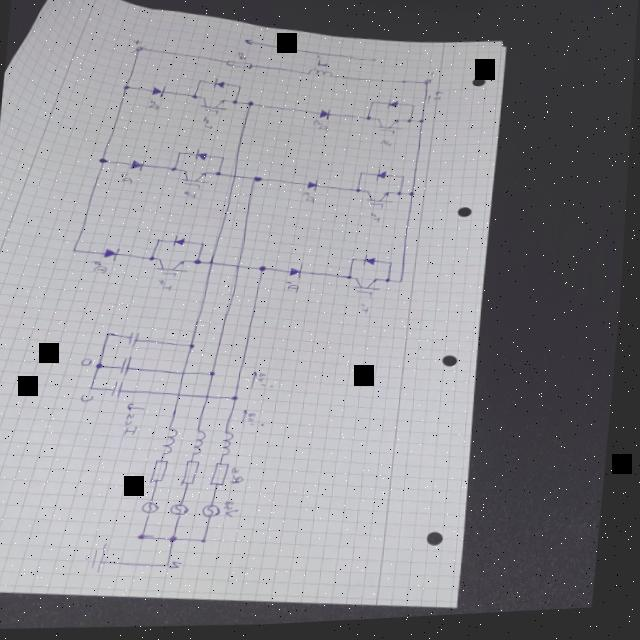capacitor: (123, 357, 137, 377), (115, 381, 129, 400), (130, 332, 144, 347)
crossover: (185, 372, 191, 377), (235, 175, 241, 180), (181, 394, 187, 398), (211, 395, 215, 400), (240, 266, 244, 270), (214, 263, 218, 267)
diode: (290, 264, 309, 282), (107, 246, 123, 262), (151, 85, 168, 100), (375, 171, 392, 186), (131, 159, 148, 173), (175, 235, 190, 249), (214, 79, 228, 93), (307, 181, 321, 195), (387, 100, 402, 113), (197, 151, 211, 163), (319, 111, 333, 123), (366, 259, 379, 269)
ground: (89, 542, 116, 577)
inductor: (167, 428, 184, 457), (196, 430, 213, 456), (225, 432, 241, 459), (308, 70, 335, 80)
junction: (144, 535, 153, 542), (262, 267, 270, 274), (366, 118, 374, 125), (101, 158, 110, 164), (74, 247, 81, 254), (176, 537, 184, 543), (410, 195, 418, 201), (100, 363, 107, 369), (421, 121, 427, 128), (206, 539, 213, 545), (217, 172, 224, 178), (351, 277, 357, 283), (159, 239, 166, 244), (213, 373, 220, 378), (399, 194, 406, 199), (170, 563, 177, 568), (256, 179, 264, 183), (237, 398, 243, 403), (111, 332, 117, 337), (357, 191, 363, 196), (409, 122, 415, 127), (124, 86, 131, 90), (361, 174, 368, 178), (198, 262, 204, 266), (233, 101, 239, 105), (389, 282, 395, 286), (93, 386, 99, 390), (193, 96, 199, 100), (371, 104, 377, 108), (153, 257, 159, 261), (193, 346, 199, 350), (250, 104, 255, 108), (179, 152, 184, 156), (174, 168, 178, 172), (203, 243, 207, 247), (392, 264, 396, 268), (355, 260, 359, 264), (223, 158, 227, 162), (402, 283, 407, 286), (238, 88, 242, 91), (403, 179, 407, 182), (200, 81, 204, 84), (413, 108, 417, 111)
resistor: (185, 460, 208, 488), (215, 462, 235, 490), (155, 460, 175, 486), (226, 60, 255, 72)
source: (207, 504, 229, 521), (173, 503, 196, 518), (147, 501, 167, 517)
terminal: (131, 43, 149, 56), (423, 80, 435, 90)
text: (126, 412, 146, 438), (250, 412, 272, 430), (229, 501, 247, 521), (262, 371, 280, 391), (92, 258, 112, 275), (234, 469, 252, 487), (160, 278, 179, 293), (287, 282, 303, 297), (278, 35, 294, 49), (314, 122, 331, 135), (202, 116, 216, 131), (317, 55, 331, 70), (148, 99, 163, 112), (174, 561, 191, 572), (305, 193, 318, 207), (122, 172, 136, 185), (362, 305, 374, 318), (434, 93, 446, 106), (186, 190, 200, 201), (372, 215, 384, 226), (85, 394, 99, 403), (85, 358, 98, 367), (238, 53, 249, 62), (132, 38, 143, 47), (382, 143, 394, 151), (430, 75, 437, 81)
transistor: (355, 278, 385, 303), (159, 257, 193, 279), (183, 169, 213, 192), (200, 97, 231, 119), (367, 192, 397, 214), (375, 118, 406, 138)
